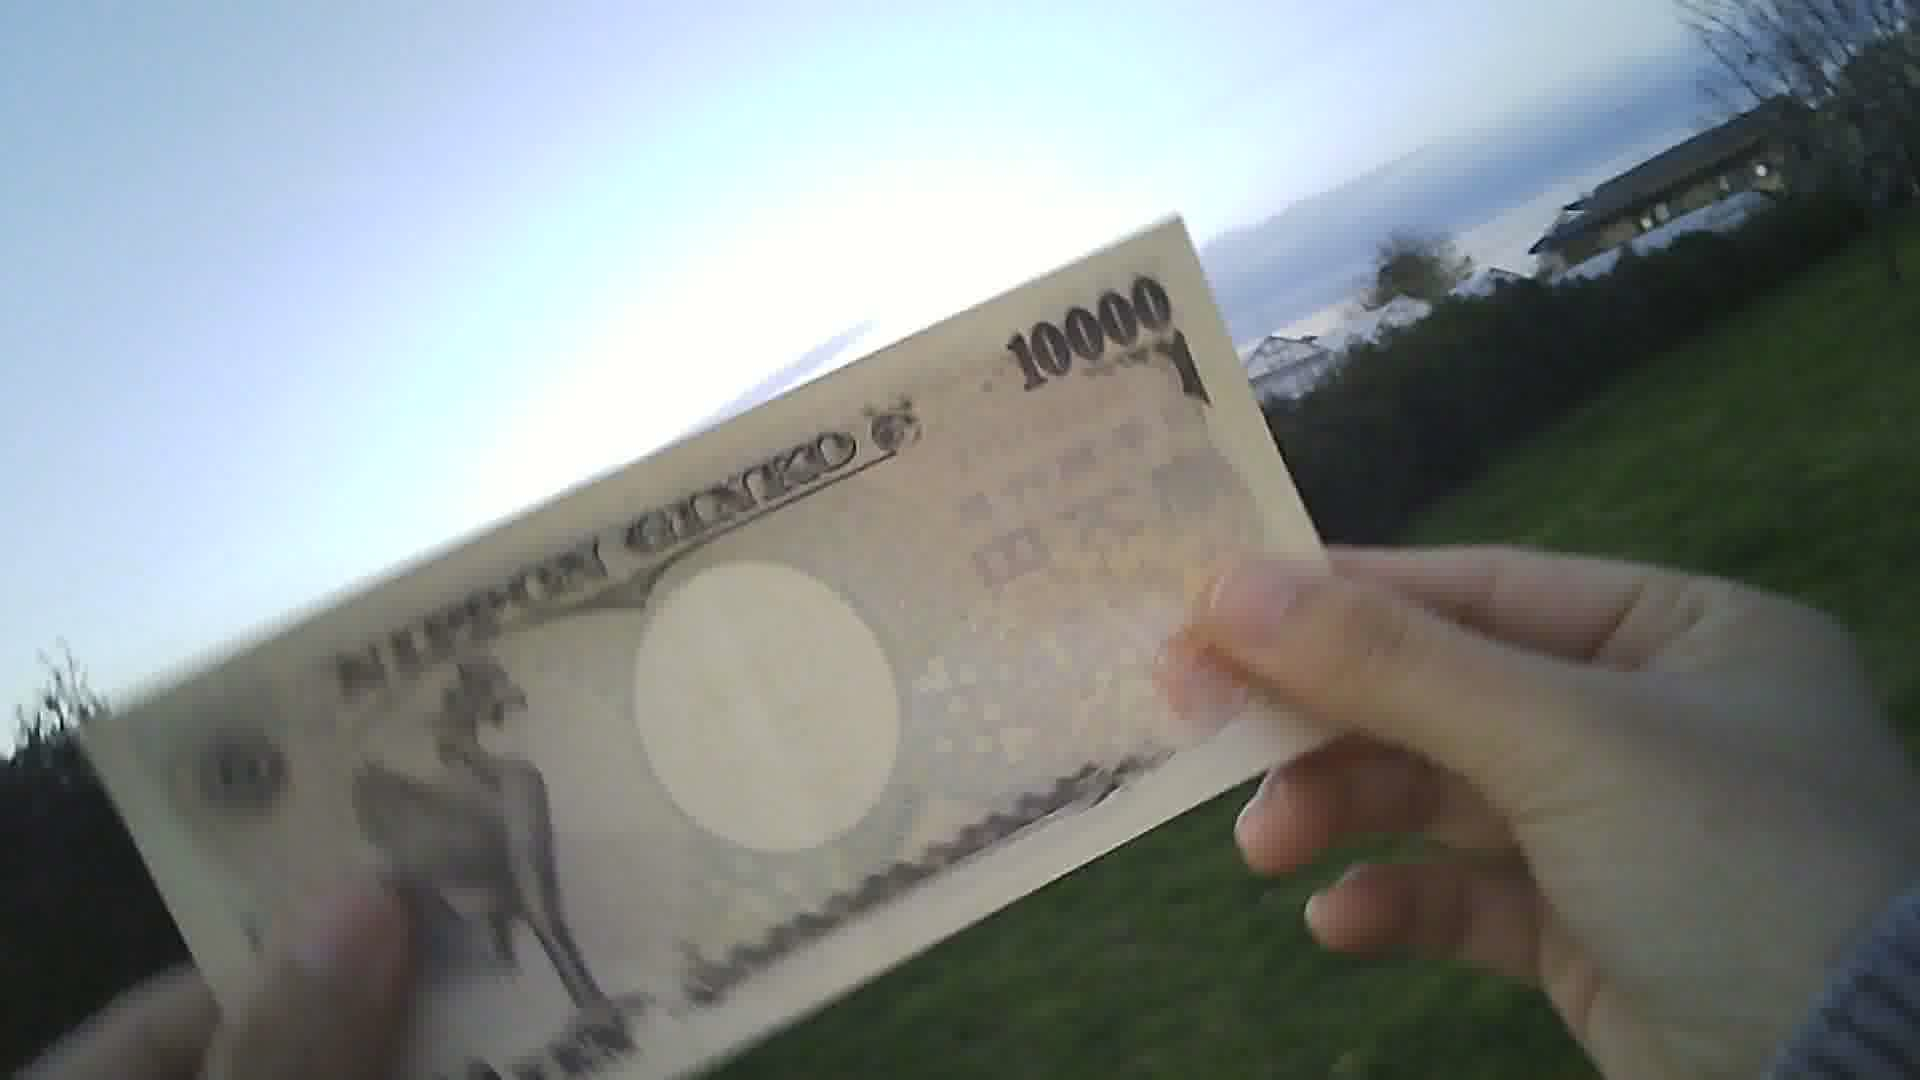10,000 Yen: (111, 204, 1364, 1079)
